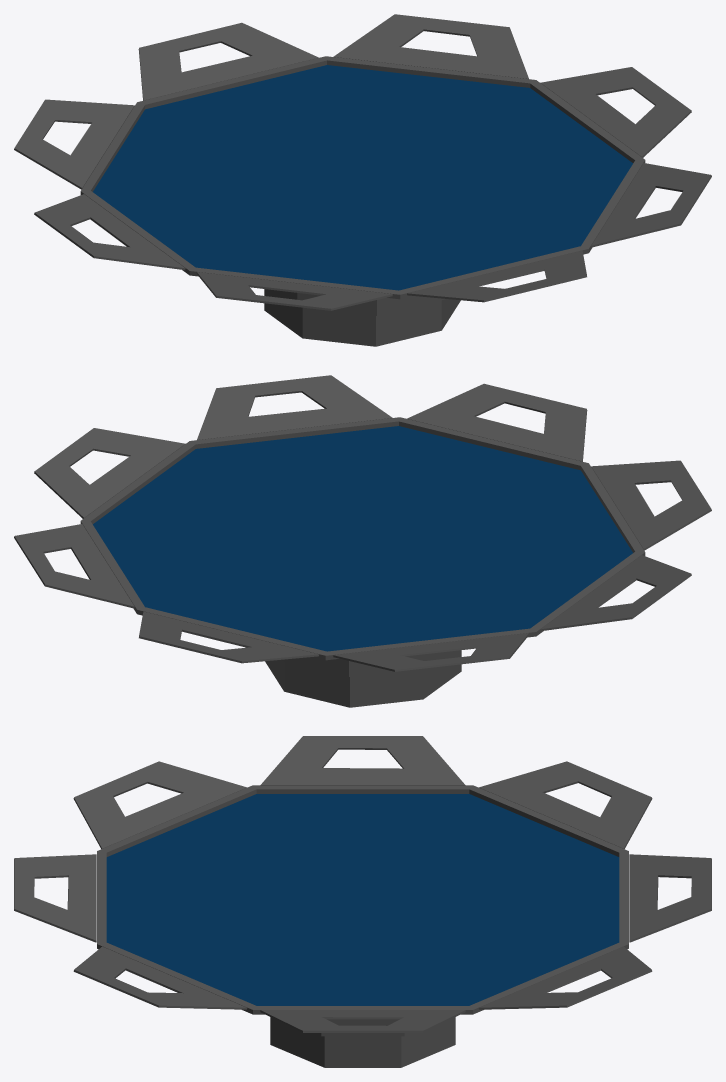
File: LaunchPad.glb
3 renders of one model, top to bottom at view 1: azimuth 30°, elevation 25°; view 2: azimuth 150°, elevation 25°; view 3: azimuth 270°, elevation 25°, orthographic.
Parts seen in each view (by area): view 1: Cylinder.001; view 2: Cylinder.001; view 3: Cylinder.001.
Boxes of the visible parts, bbox=[...] form: Cylinder.001: bbox=[14, 14, 711, 346]; Cylinder.001: bbox=[14, 375, 711, 707]; Cylinder.001: bbox=[14, 736, 711, 1067].
Size of the model in its own units: 5.35 by 1.23 by 5.35.
